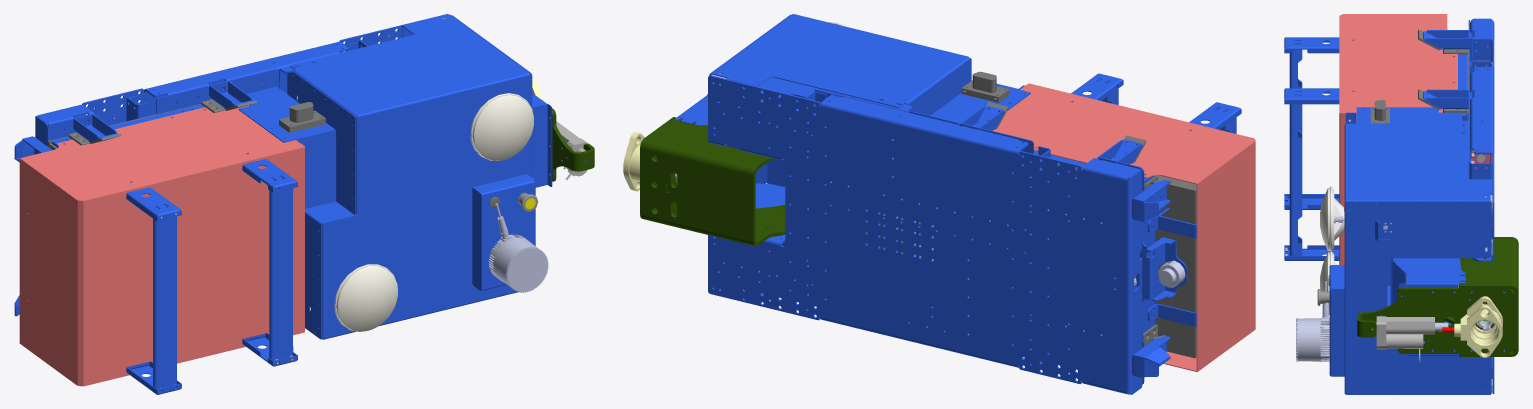
File: chassis_microtractor.obj
3 renders of one model, left to right at view 1: azimuth 30°, elevation 25°; view 2: azimuth 150°, elevation 25°; view 3: azimuth 270°, elevation 25°, orthographic. The views are drawn at different scales.
Visible parts, largest first — view 1: Body8:6, Body1:134, Body7:7, Body3:28, Body1, Body1:80, Body1:39, Body1:35, Body10:7, Body1:126, Body1:121, Body1:3 (+16 smaller); view 2: Body1, Body1:134, Body2:21, Body7:7, Body8:6, Body1:73, Body1:3, Body1:95, Body3:28, Body1:80, Body1:21, Body1:20 (+10 smaller); view 3: Body2:30, Body1:134, Body7:7, Body3:20, Body1, Body2:21, Body1:95, Body10:7, Body1:39, Body1:83, Body2:22, Body1:80 (+14 smaller).
Part boxes in pixels (box(x1,y1,x2,y2)): Body8:6: box(19, 140, 304, 386); Body1:134: box(290, 14, 531, 339); Body7:7: box(21, 105, 303, 200); Body3:28: box(287, 71, 355, 339); Body1: box(35, 14, 448, 145); Body1:80: box(238, 86, 336, 208); Body1:39: box(269, 176, 293, 360); Body1:35: box(153, 205, 176, 389); Body10:7: box(356, 174, 535, 290); Body1:126: box(334, 264, 397, 331); Body1:121: box(470, 93, 533, 160); Body1:3: box(47, 68, 278, 146); Body1: box(708, 75, 1142, 394); Body1:134: box(710, 14, 969, 306); Body2:21: box(640, 117, 791, 246); Body7:7: box(992, 84, 1254, 184); Body8:6: box(1020, 83, 1255, 371); Body1:73: box(1155, 175, 1196, 358); Body1:3: box(909, 111, 1187, 384); Body1:95: box(675, 94, 798, 208); Body3:28: box(907, 58, 971, 234); Body1:80: box(930, 83, 1030, 123); Body1:21: box(1132, 180, 1170, 222); Body1:20: box(1132, 336, 1170, 377); Body2:30: box(1345, 201, 1491, 394); Body1:134: box(1344, 123, 1492, 394); Body7:7: box(1340, 14, 1457, 112); Body3:20: box(1357, 288, 1515, 353); Body1: box(1470, 18, 1494, 393); Body2:21: box(1444, 237, 1518, 356); Body1:95: box(1390, 258, 1465, 356); Body10:7: box(1329, 194, 1492, 376); Body1:39: box(1289, 91, 1302, 255); Body1:83: box(1454, 296, 1502, 357); Body2:22: box(1372, 316, 1434, 349); Body1:80: box(1345, 107, 1462, 123).
Bounding box in the file's own units: 1288 × 507 × 543.
